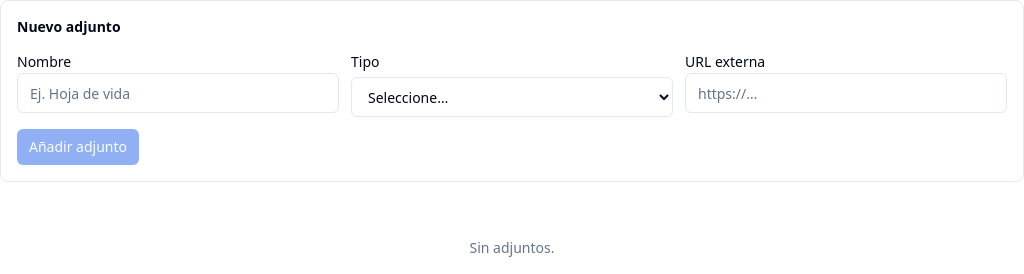
Test: AttachmentsManager › disables the create button until name, type and url are provided
Expected: the text "Sin adjuntos." is shown, [470,238,554,257]
Expected: the button "Añadir adjunto" is disabled, [17,129,139,165]
In the field labelled "Nombre": (178,93) [17,73,339,113], type "Certificado"
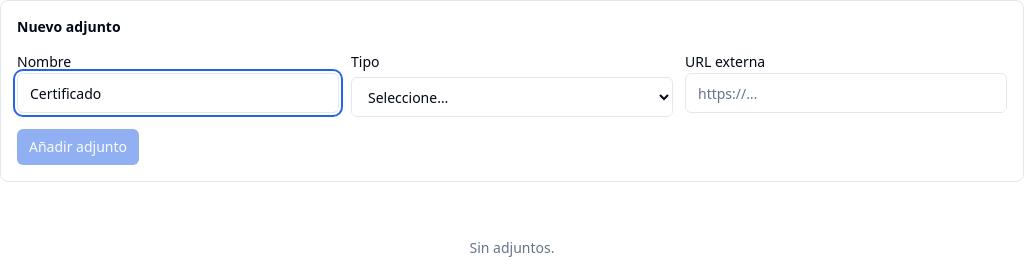
Select "Hoja de vida" in the dropdown labelled "Tipo": (512,97) [351,77,673,117]
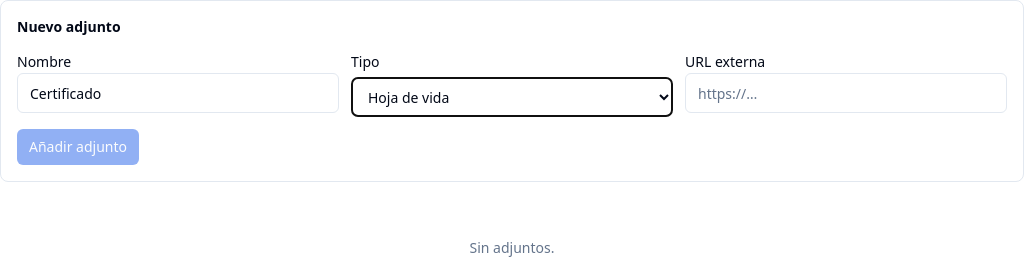
Expected: the button "Añadir adjunto" is disabled, [17,129,139,165]
In the field labelled "URL externa": (846,93) [685,73,1007,113], type "https://example.com/cv.pdf"
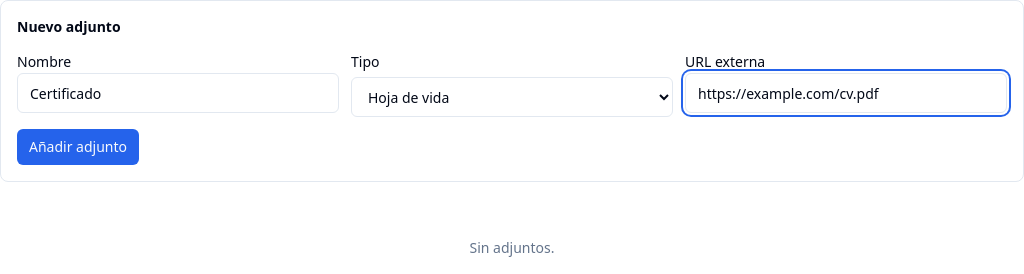
Expected: the button "Añadir adjunto" is enabled, [17,129,139,165]
